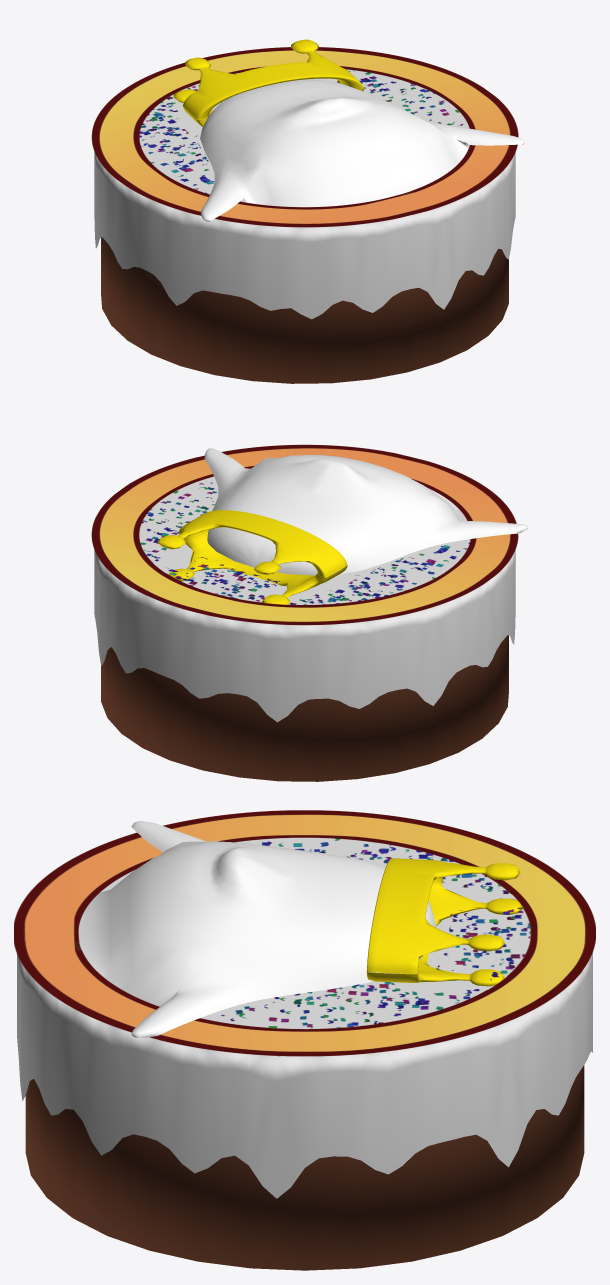
Rendered from cake.glb.
The picture shows the model from 3 angles, top to bottom: view 1: azimuth 30°, elevation 25°; view 2: azimuth 150°, elevation 25°; view 3: azimuth 270°, elevation 25°; orthographic projection. The views are drawn at different scales.
Visible parts, largest first — view 1: Icing, Cake, tux, Circle, Crown; view 2: Icing, Cake, Circle, tux, Crown; view 3: Icing, Cake, Circle, tux, Crown.
Boxes of the visible parts, x1,y1,x2,y2 form: Icing: (94,69,515,319); Cake: (101,237,508,383); tux: (200,79,524,221); Circle: (91,47,518,227); Crown: (173,39,363,126); Icing: (94,476,515,722); Cake: (101,635,508,781); Circle: (91,444,518,625); tux: (204,448,527,575); Crown: (157,510,347,604); Icing: (17,837,592,1198); Cake: (25,1065,584,1270); Circle: (14,810,595,1056); tux: (78,821,436,1037); Crown: (366,858,522,986).
Bounding box in the file's own units: 1 × 0.5595 × 1.
Materials: 4 (1 with a texture image).
